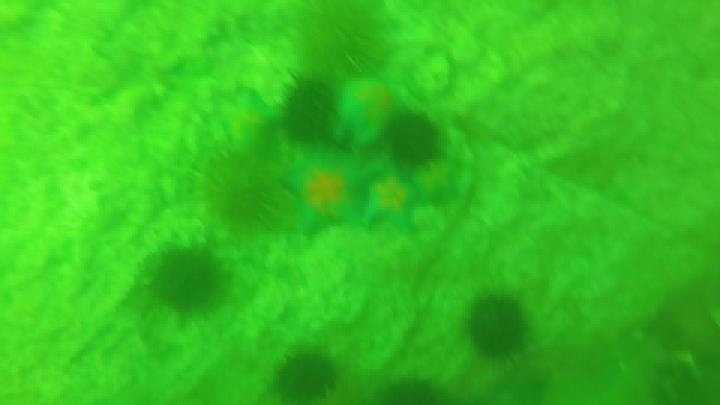echinus: (293, 2, 394, 79), (197, 146, 286, 233), (147, 245, 227, 317), (464, 293, 531, 365), (278, 73, 341, 146), (269, 348, 340, 403), (382, 110, 444, 170), (378, 375, 445, 405)
starfish: (276, 154, 376, 239), (331, 70, 409, 144), (209, 80, 281, 151), (360, 171, 426, 234), (409, 155, 466, 209)
